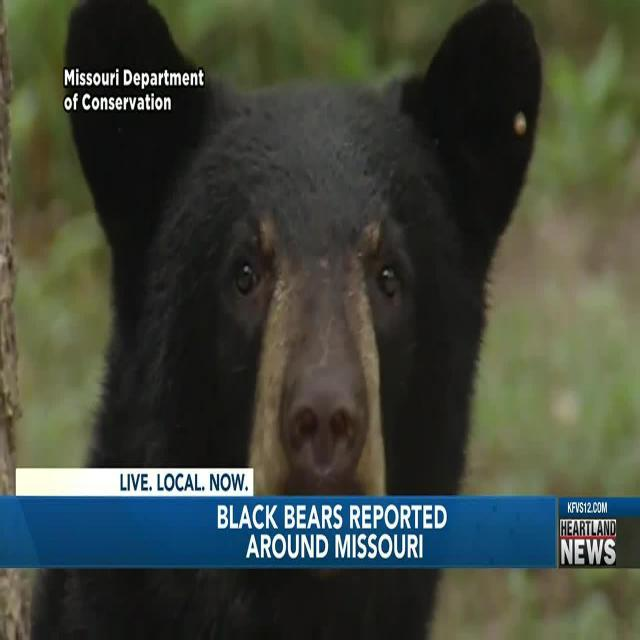Bear: (64, 0, 544, 499)
